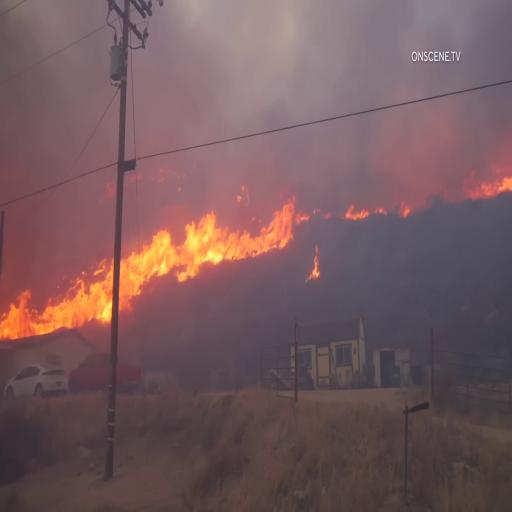fire: (118, 197, 294, 325), (0, 257, 113, 344)
smoke: (148, 0, 380, 158)
